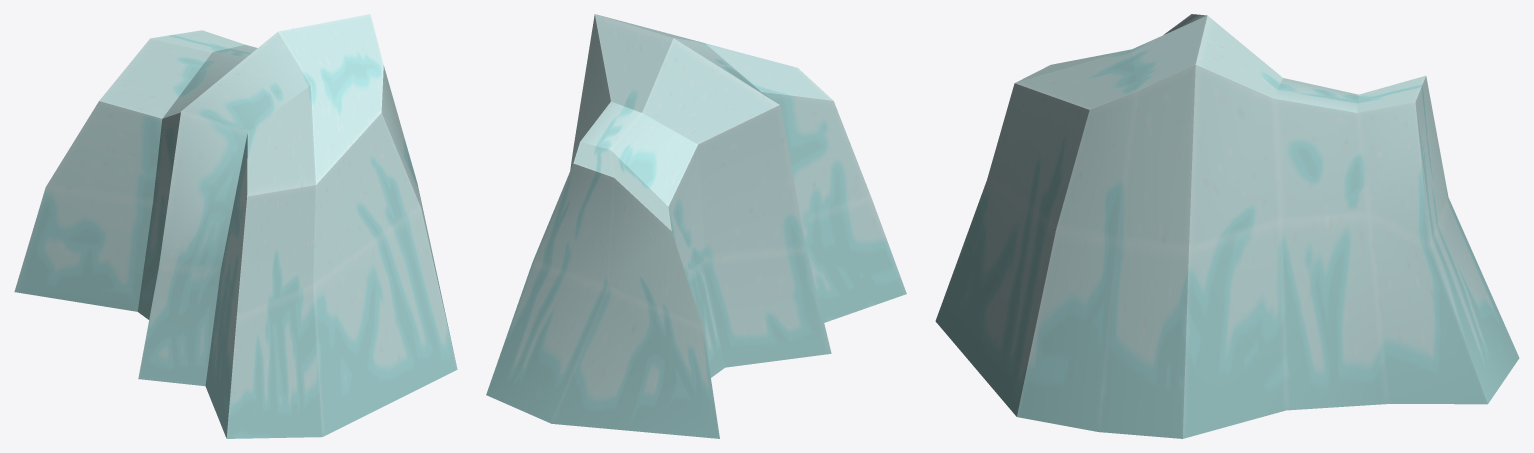
The model's file is env_Ice_Cliff_B.FBX.
3 views of the same model, side by side, from view 1: azimuth 30°, elevation 25°; view 2: azimuth 150°, elevation 25°; view 3: azimuth 270°, elevation 25° (orthographic). The views are drawn at different scales.
Parts seen in each view (by area): view 1: env_Ice_Cliff_B; view 2: env_Ice_Cliff_B; view 3: env_Ice_Cliff_B.
Part boxes in pixels (bbox=[...]): env_Ice_Cliff_B: bbox=[14, 14, 457, 438]; env_Ice_Cliff_B: bbox=[486, 14, 906, 438]; env_Ice_Cliff_B: bbox=[935, 14, 1519, 438].
Size of the model in its own units: 1179 by 1163 by 1773.
